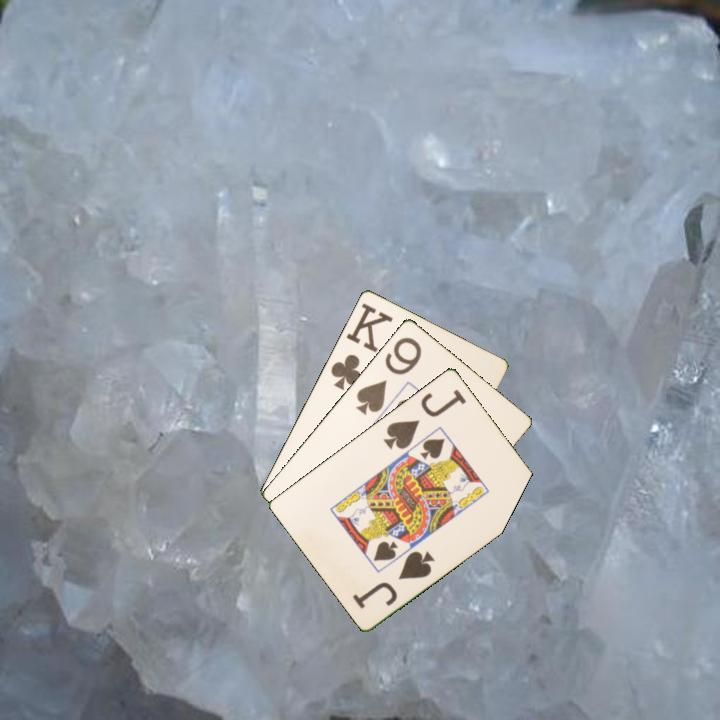9s: (352, 333, 425, 417)
Js: (380, 385, 469, 452), (349, 546, 438, 611)
Kc: (327, 299, 395, 393)
